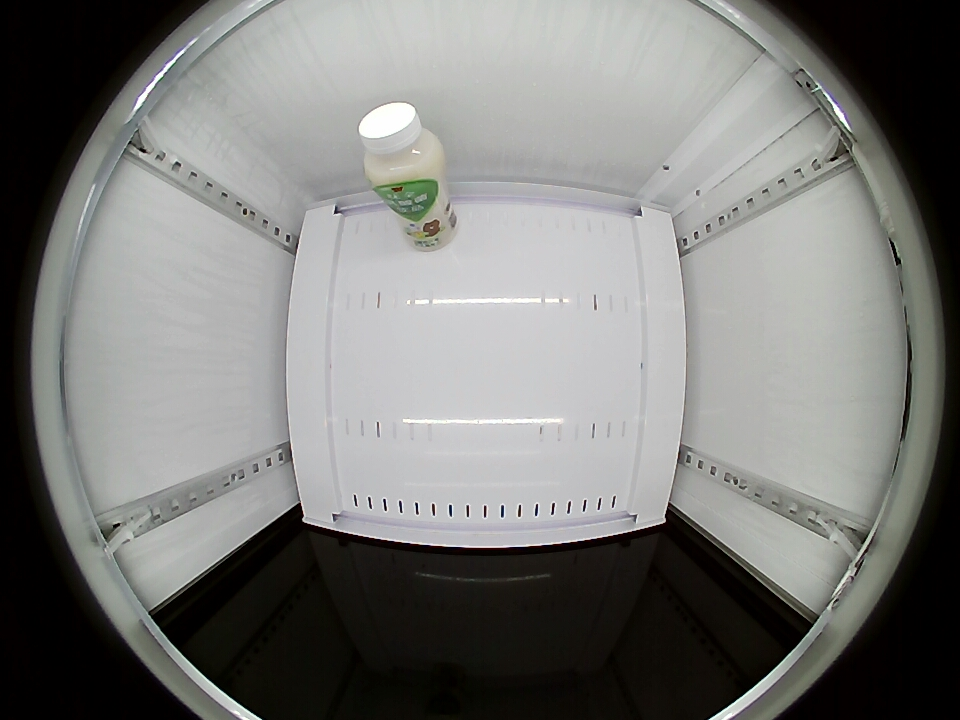yousuanru: (359, 102, 446, 193)
